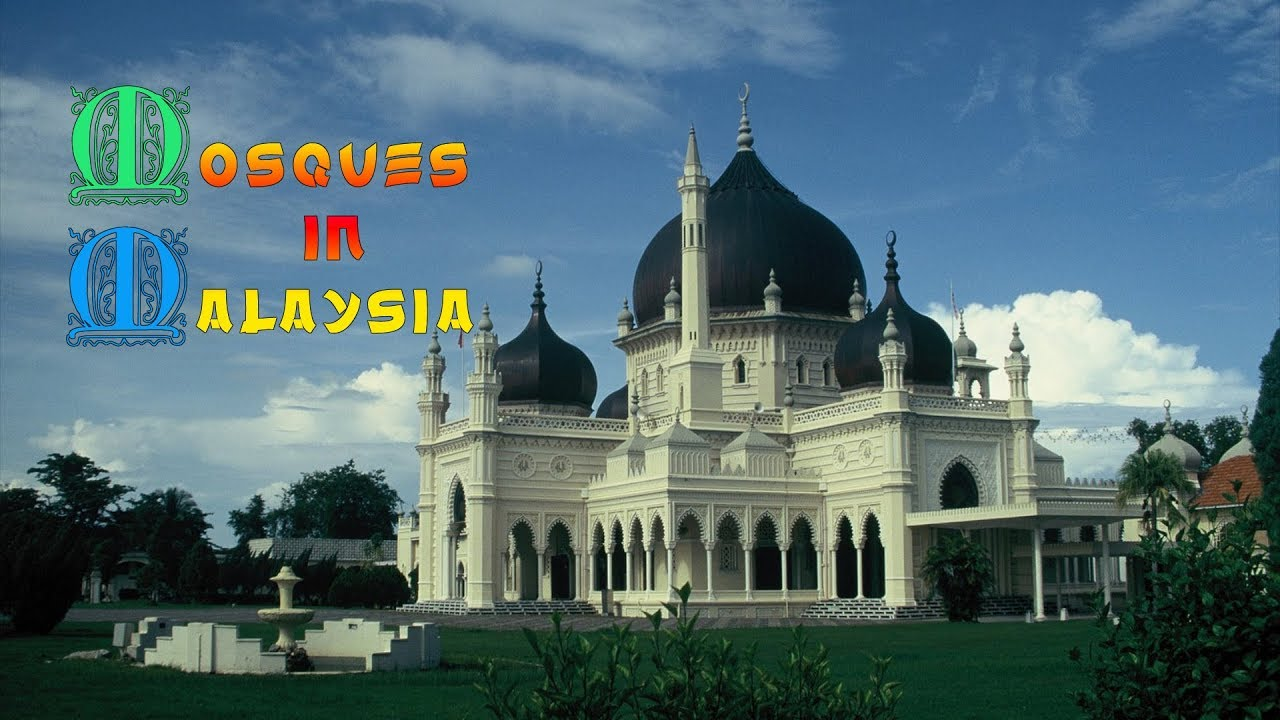Mosque: (413, 81, 1056, 588)
